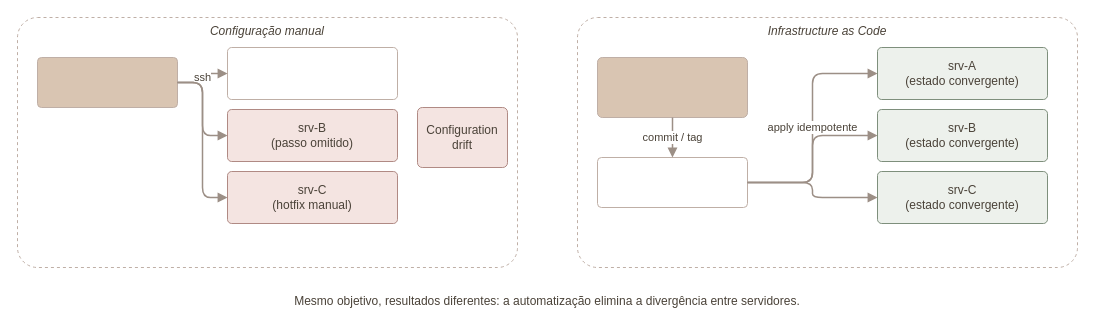
Some shapes in this 1095 by 333 pixel diagram are drawn without their labels. Each missing label, with the centre of its shape:
"Administrador (shell interativa)" goes at pixel 107 82.
"Motor IaC (plan / apply)" goes at pixel 672 182.
"Repositório Git (HCL / YAML)" goes at pixel 672 87.
"srv-A (nginx 1.24)" goes at pixel 312 73.
